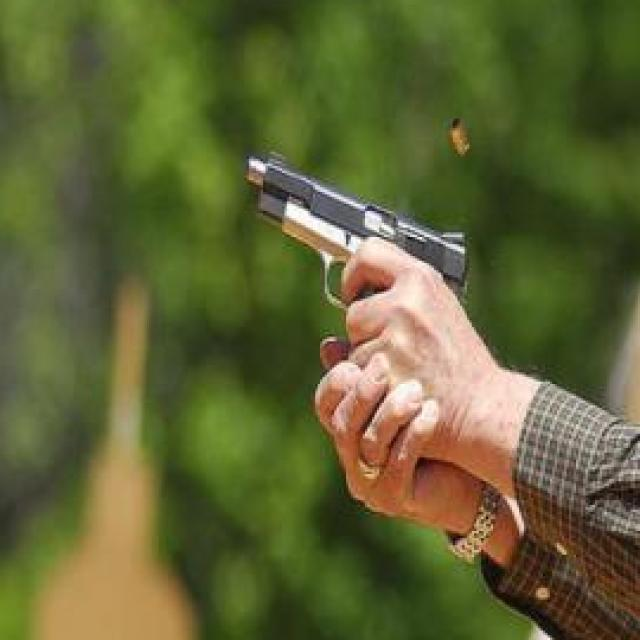pistol: (248, 142, 472, 315)
